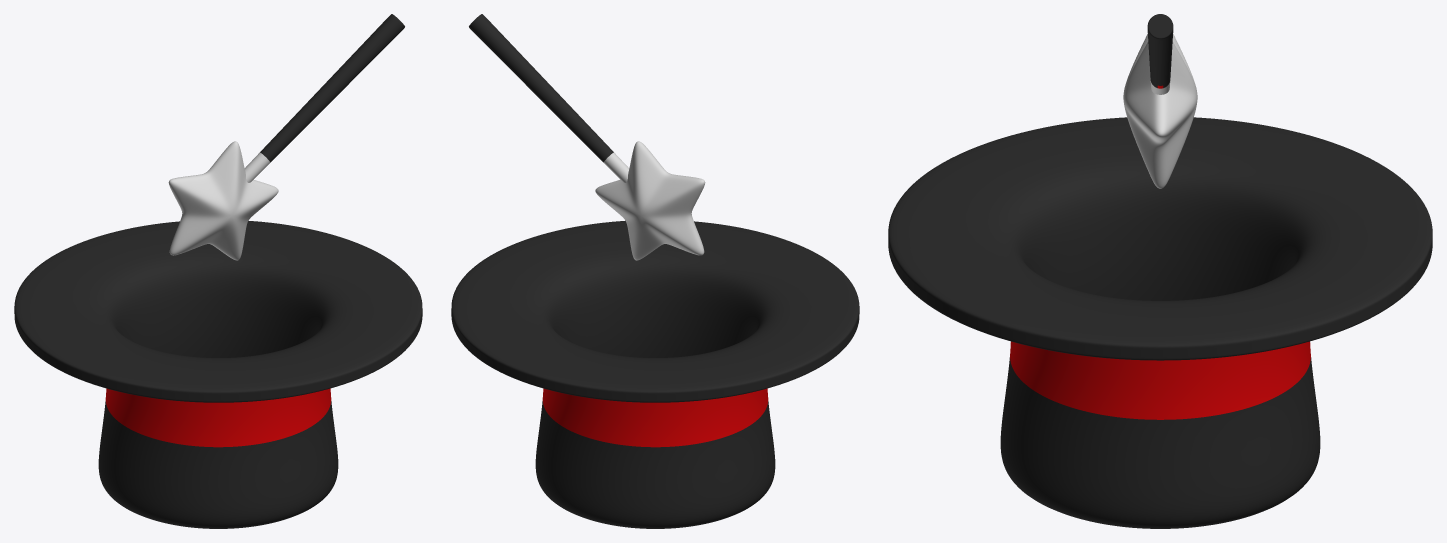
File: magic-trick.glb
The picture shows the model from 3 angles, left to right: view 1: azimuth 30°, elevation 25°; view 2: azimuth 150°, elevation 25°; view 3: azimuth 270°, elevation 25°; orthographic projection. The views are drawn at different scales.
Visible parts, largest first — view 1: Circle.006; view 2: Circle.006; view 3: Circle.006.
Boxes of the visible parts, x1,y1,x2,y2 form: Circle.006: (14,14,422,528); Circle.006: (451,14,859,528); Circle.006: (888,14,1432,528).
Bounding box in the file's own units: 1.65 × 1.86 × 1.61.
